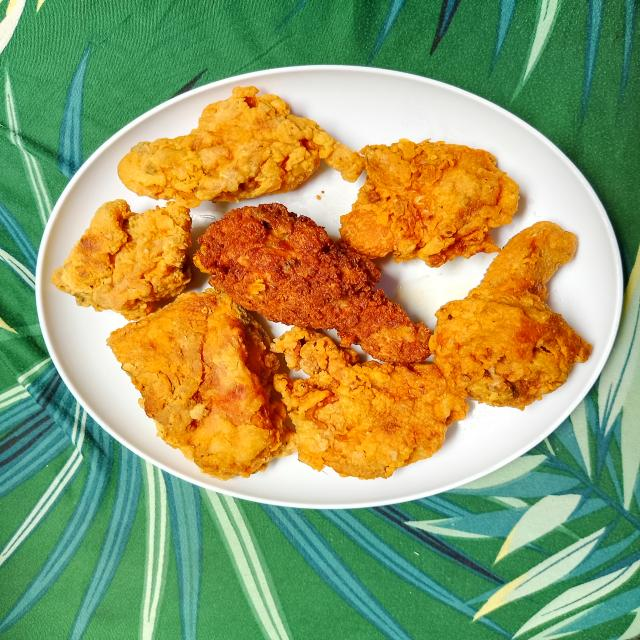Chicken -Fried Chicken-: (199, 201, 432, 365), (101, 288, 286, 487), (435, 218, 587, 412), (115, 93, 358, 206), (276, 330, 463, 474), (342, 132, 515, 266), (52, 198, 193, 316)
